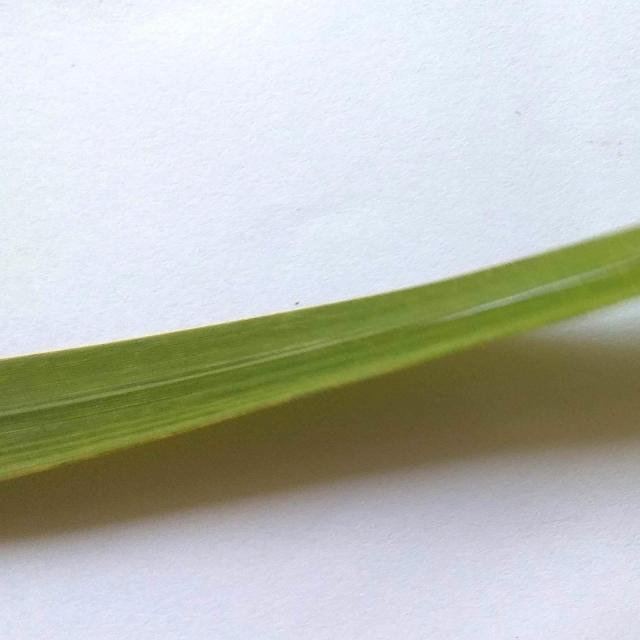healthy: (4, 187, 640, 505)
